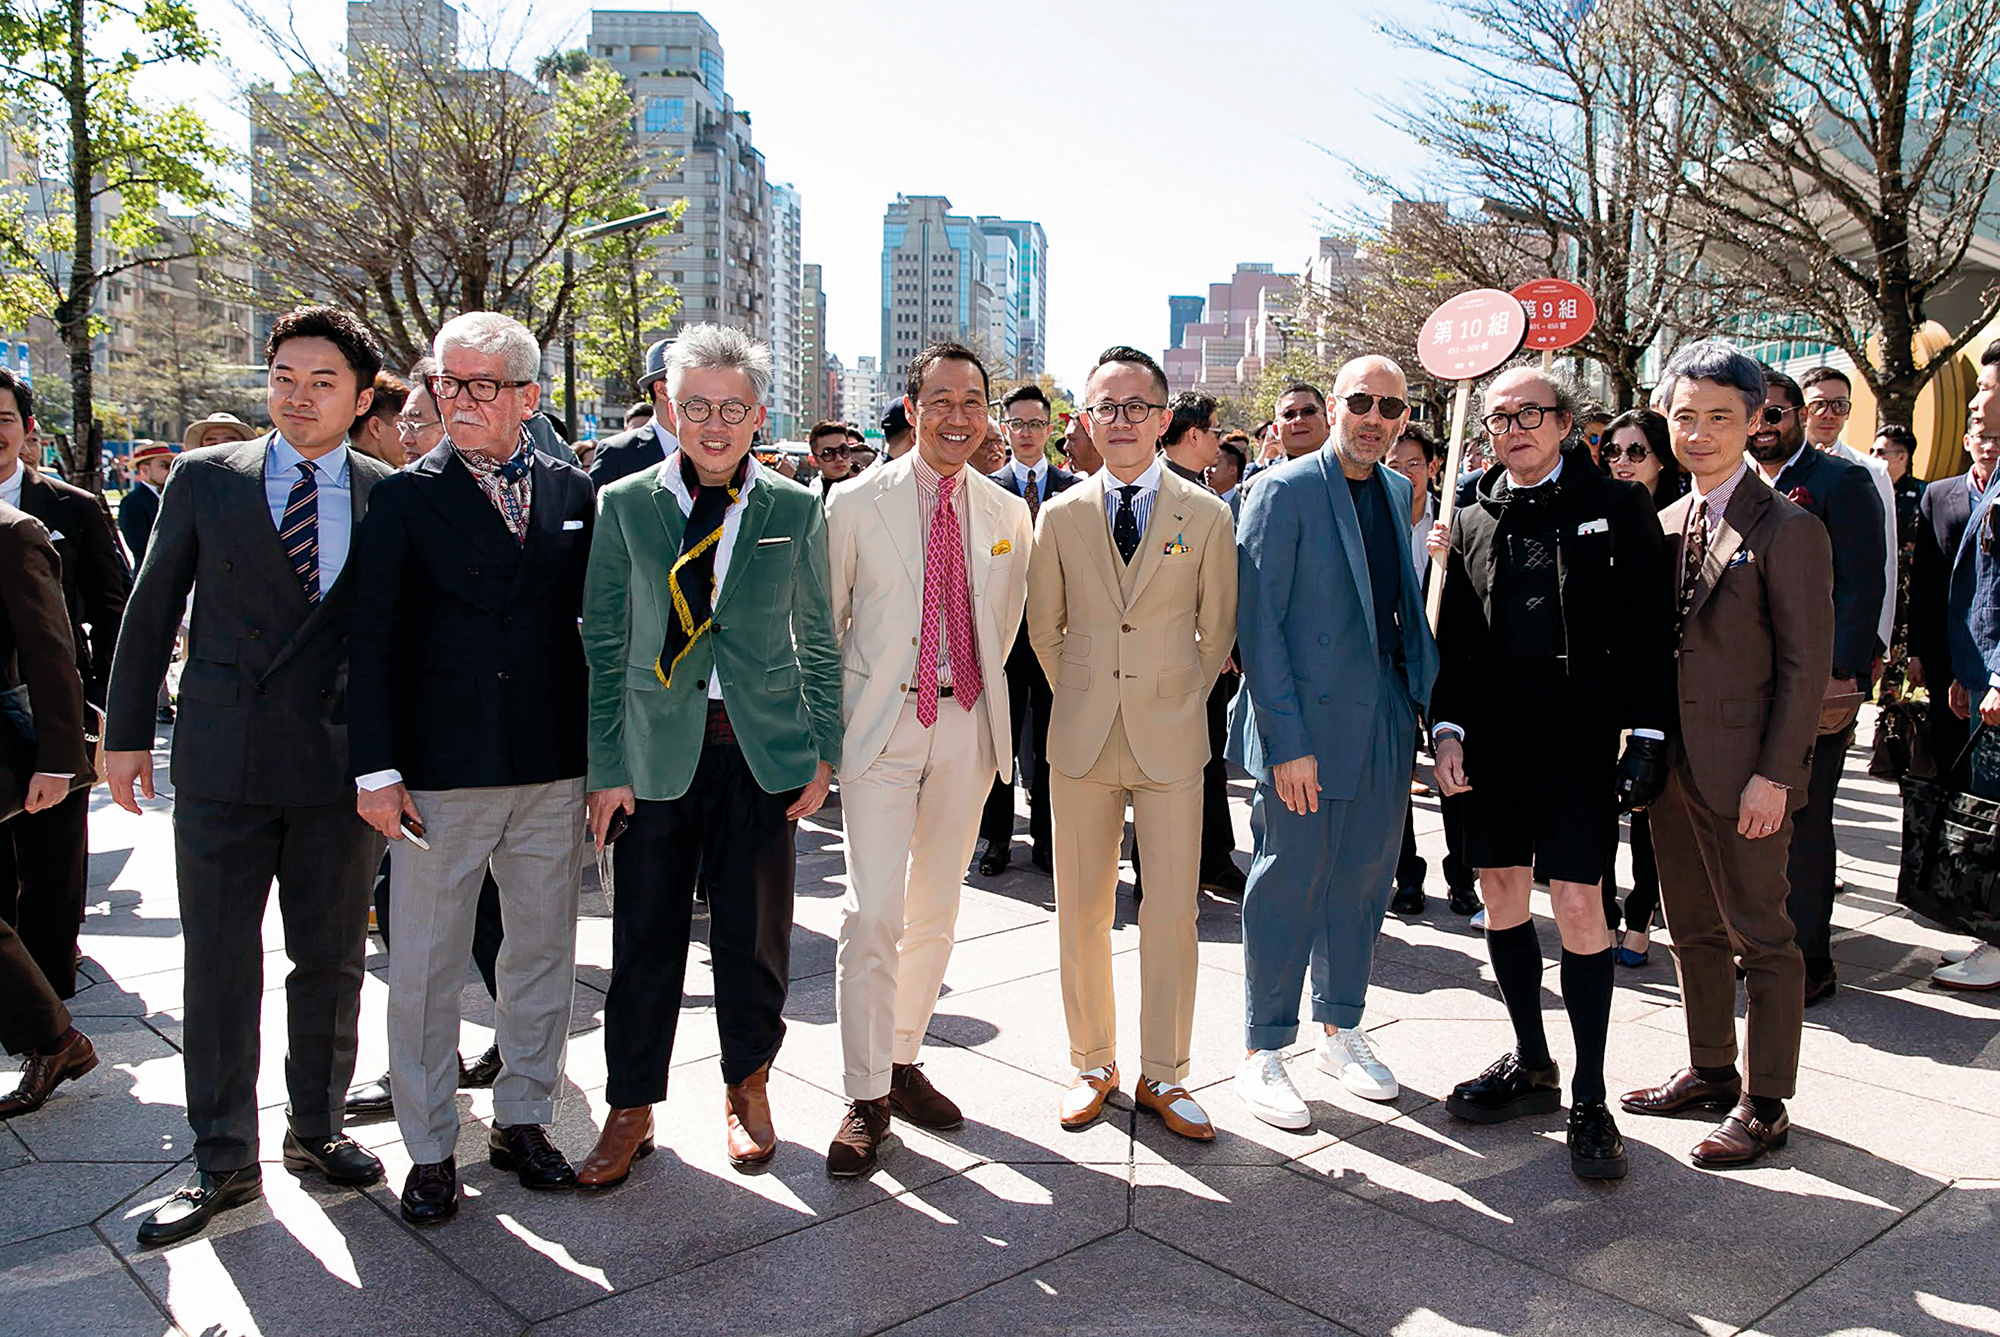feet: (1433, 1036, 1636, 1186), (380, 1086, 591, 1230), (125, 1128, 380, 1244), (564, 1062, 787, 1192), (1609, 1027, 1799, 1168), (1216, 989, 1409, 1118), (811, 1046, 972, 1183), (1045, 1034, 1220, 1153), (346, 1024, 544, 1118), (1, 974, 110, 1121), (1387, 843, 1503, 933), (978, 815, 1071, 886), (1927, 895, 2000, 983), (1594, 888, 1664, 971)
